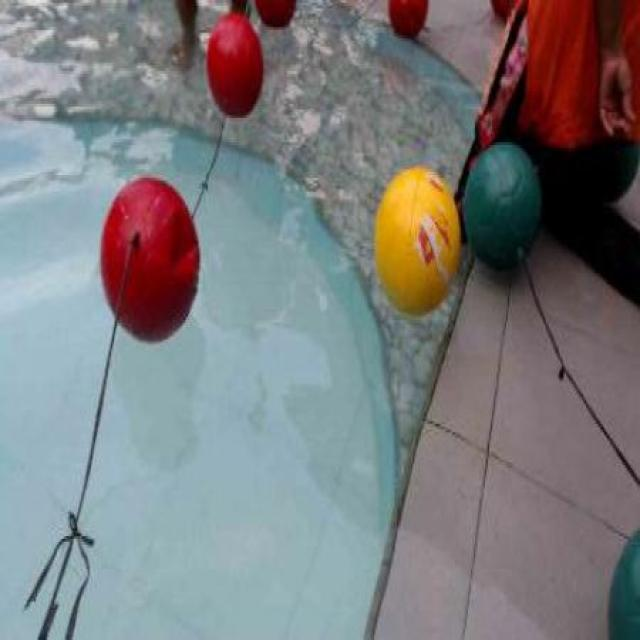buoy: (99, 175, 200, 344), (374, 165, 459, 316), (462, 139, 540, 271), (205, 13, 263, 118), (388, 1, 428, 37)
